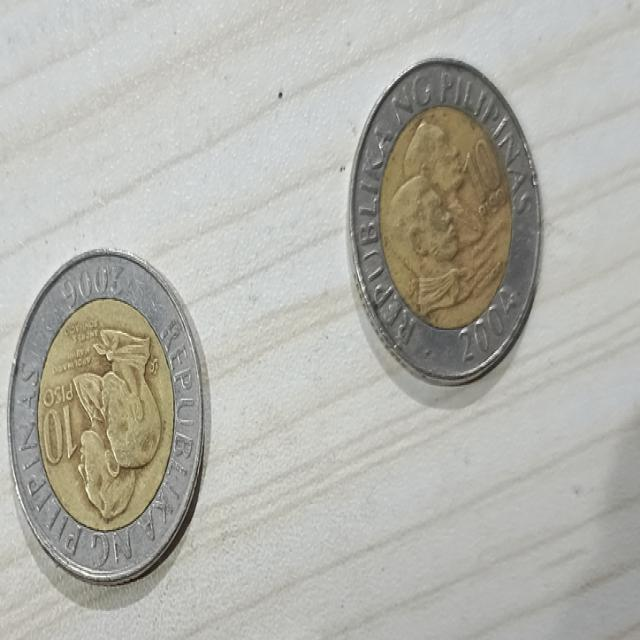10_peso: (9, 251, 204, 583), (349, 58, 541, 383)
